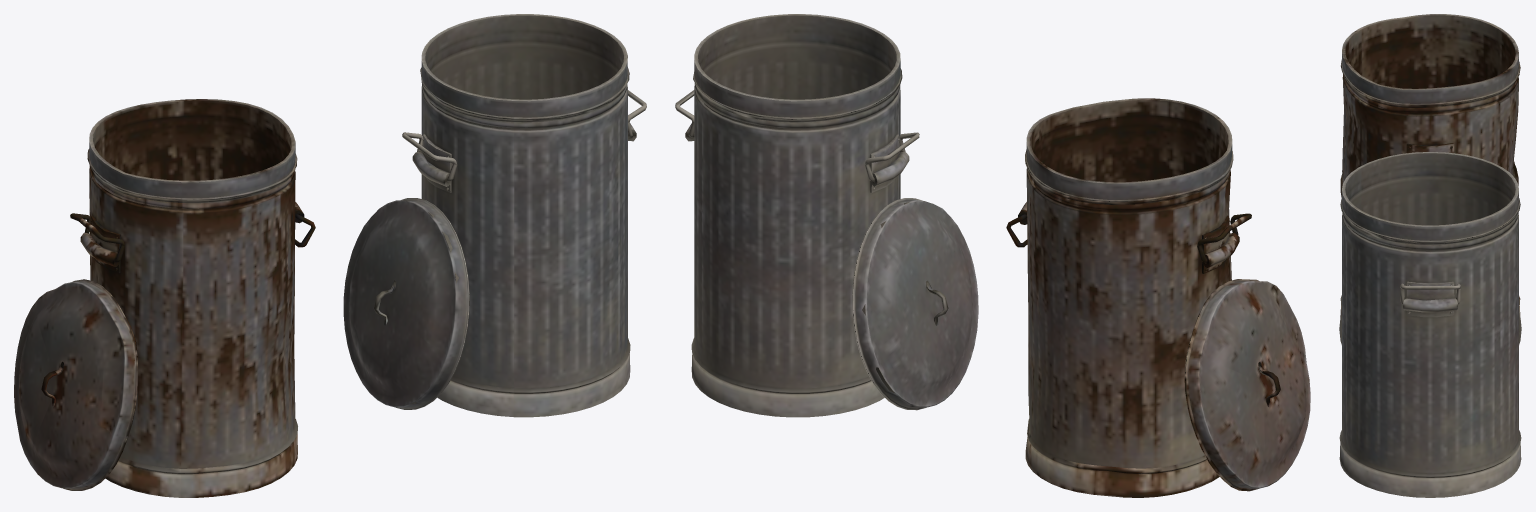
The model's file is metal_trash_can.403e5b3107.glb.
The picture shows the model from 3 angles, left to right: view 1: azimuth 30°, elevation 25°; view 2: azimuth 150°, elevation 25°; view 3: azimuth 270°, elevation 25°; orthographic projection. The views are drawn at different scales.
Parts seen in each view (by area): view 1: metal_trash_can, metal_trash_can_rust, metal_trash_can_lid, metal_trash_can_rust_lid; view 2: metal_trash_can, metal_trash_can_rust, metal_trash_can_lid, metal_trash_can_rust_lid; view 3: metal_trash_can, metal_trash_can_rust, metal_trash_can_handle_right.
Part boxes in pixels (x1=…): metal_trash_can: x1=412, y1=14, x2=636, y2=417; metal_trash_can_rust: x1=80, y1=99, x2=304, y2=497; metal_trash_can_lid: x1=343, y1=198, x2=469, y2=409; metal_trash_can_rust_lid: x1=14, y1=279, x2=137, y2=490; metal_trash_can: x1=685, y1=14, x2=909, y2=417; metal_trash_can_rust: x1=1018, y1=98, x2=1239, y2=497; metal_trash_can_lid: x1=852, y1=198, x2=978, y2=410; metal_trash_can_rust_lid: x1=1184, y1=279, x2=1310, y2=491; metal_trash_can: x1=1339, y1=152, x2=1521, y2=497; metal_trash_can_rust: x1=1340, y1=14, x2=1520, y2=317; metal_trash_can_handle_right: x1=1400, y1=283, x2=1460, y2=304.
Bounding box in the file's own units: 1.78 × 0.9062 × 0.5543.
2 materials, 2 textured.
